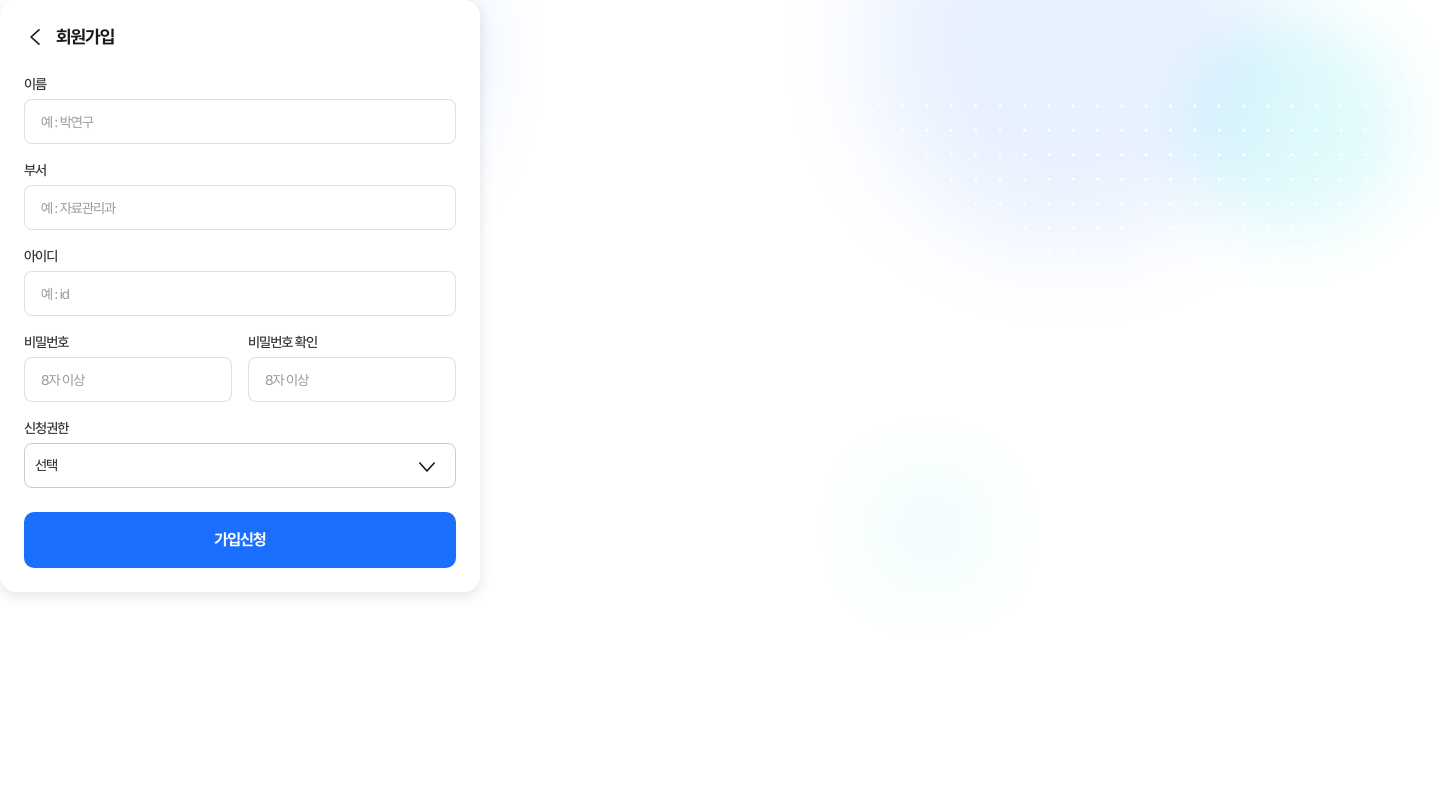
Scenario: join: 클라 검증(round06d가 미룬 5가지 중 형태 검증 4가지) › 비밀번호가 8자 미만이면 에러를 보여준다
Type "박연구" into the field labelled "이름" at (240, 122), box [24,99,456,144]
Type "자료관리과" into the field labelled "부서" at (240, 208), box [24,185,456,230]
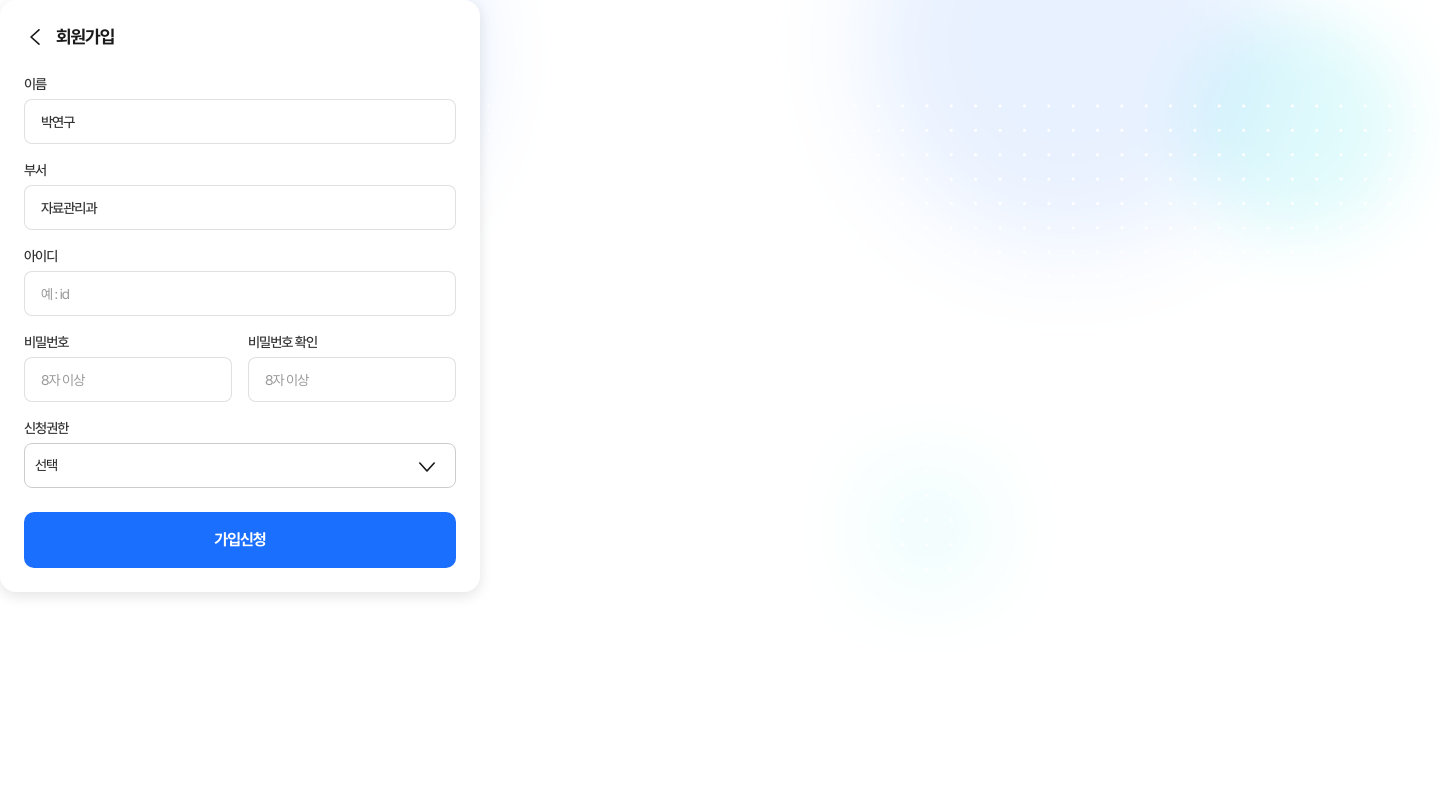
Type "kim01" into the field labelled "아이디" at (240, 294), box [24,271,456,316]
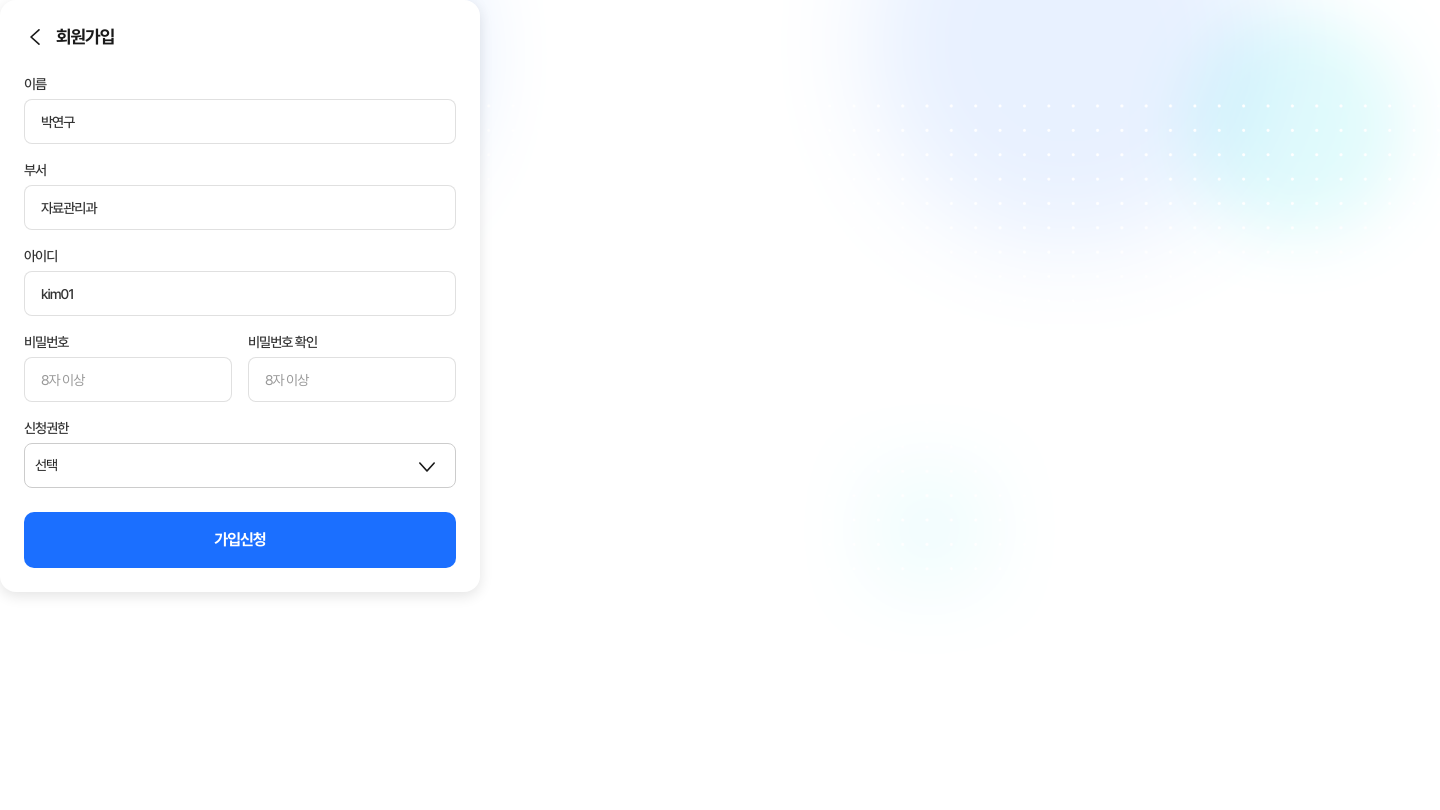
Type "short1" into the password field labelled "비밀번호" at (128, 380), box [24,357,232,402]
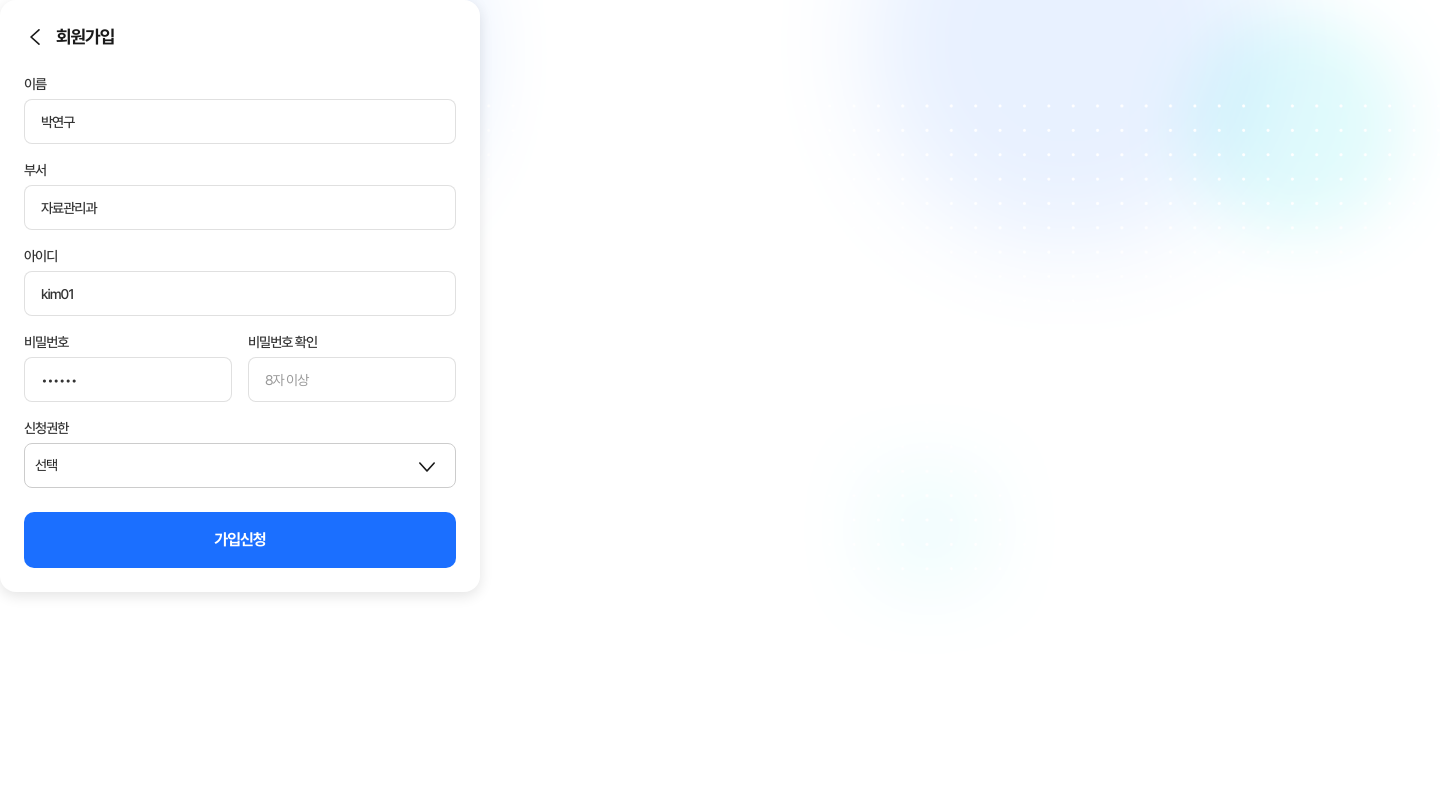
Type "short1" into the password field labelled "비밀번호 확인" at (352, 380), box [248,357,456,402]
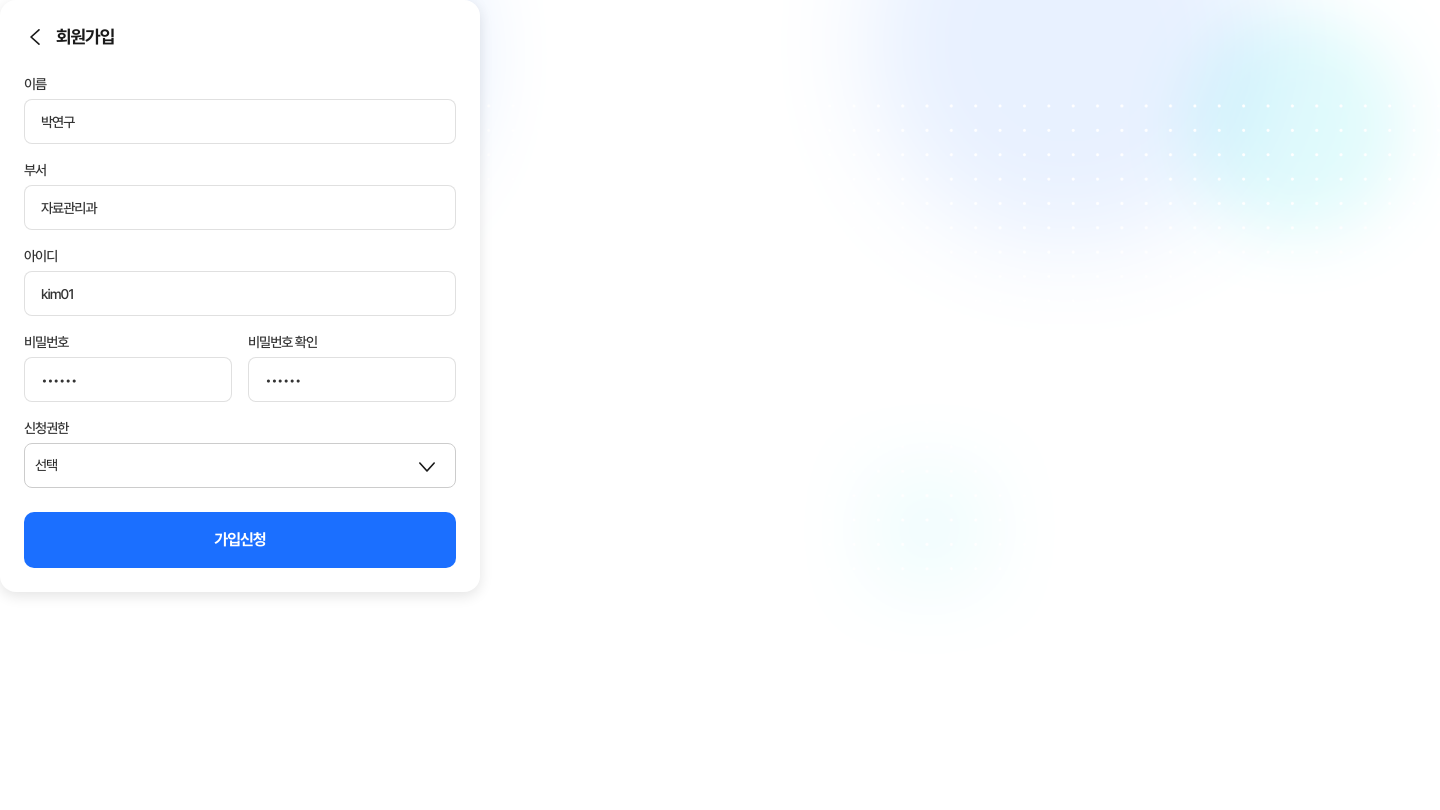
Select "사용자" in the dropdown labelled "신청권한" at (240, 466), box [24,443,456,488]
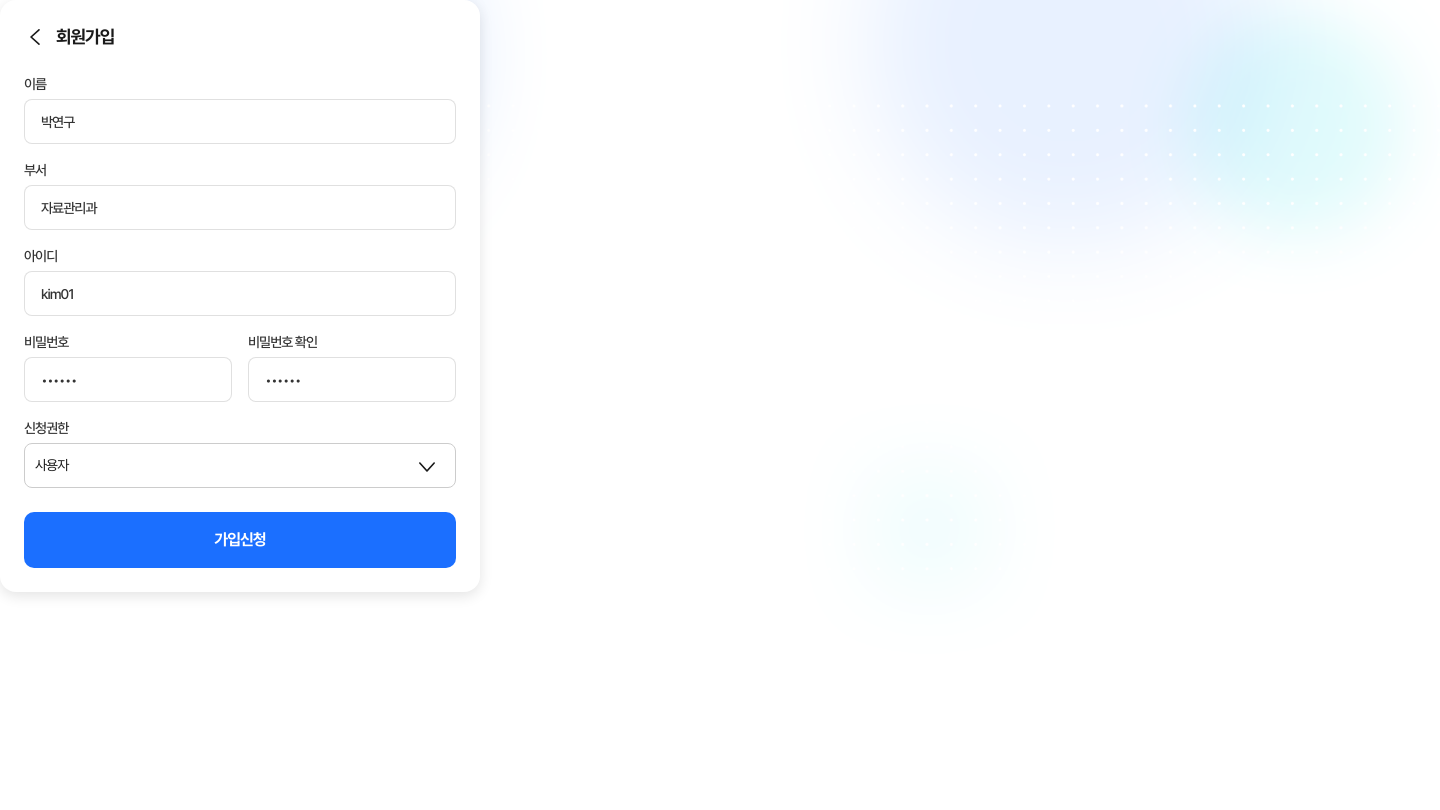
Click the button "가입신청" at (240, 540), box [24,512,456,568]
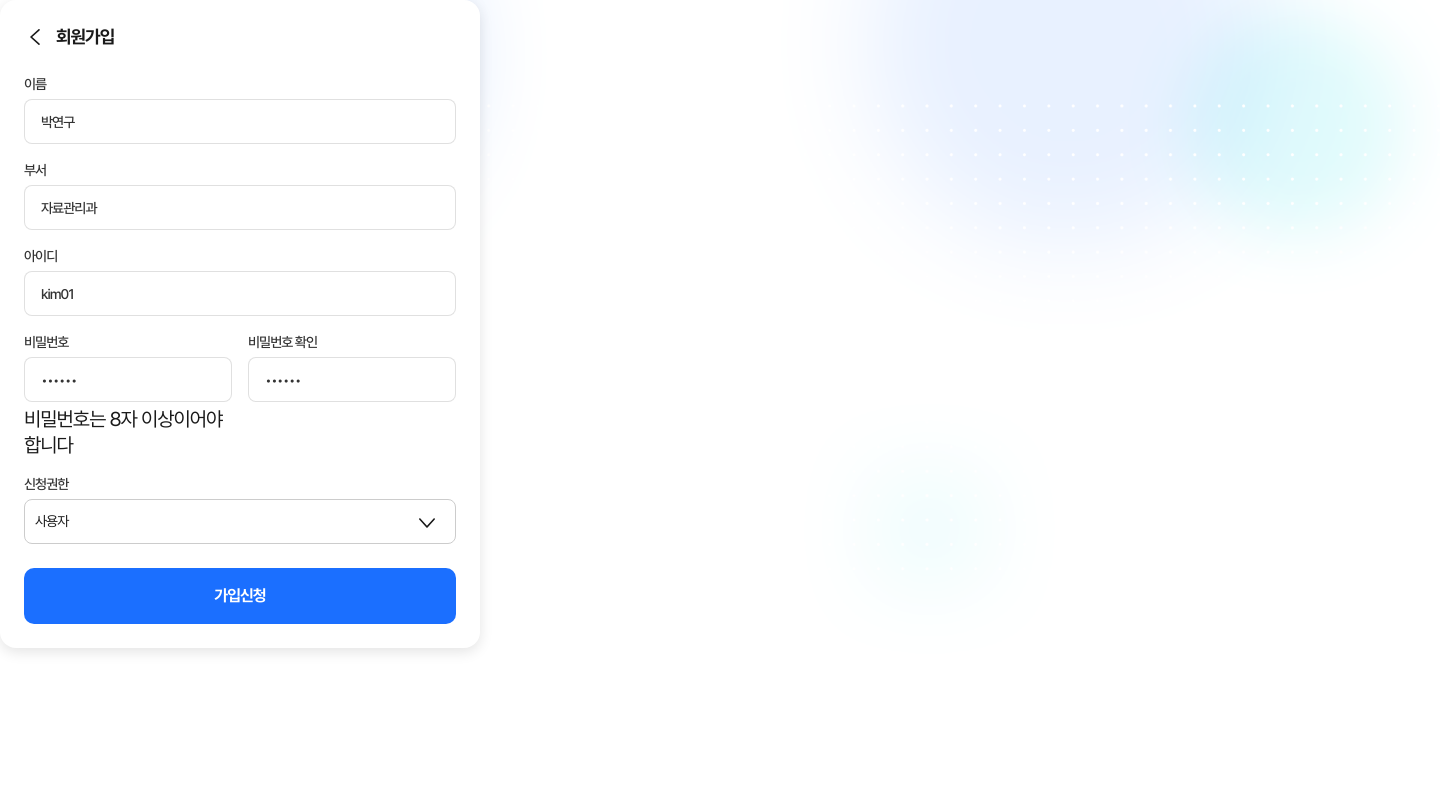
Check: the text "비밀번호는 8자 이상이어야 합니다" is shown, box [24,406,232,458]
